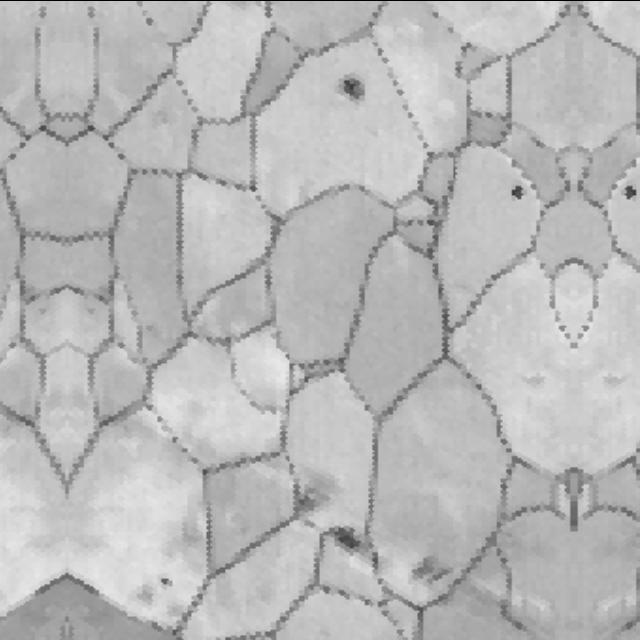good_void: (284, 476, 333, 524), (405, 551, 457, 596), (322, 516, 369, 558), (334, 74, 371, 106), (153, 561, 180, 593), (502, 181, 527, 215)
